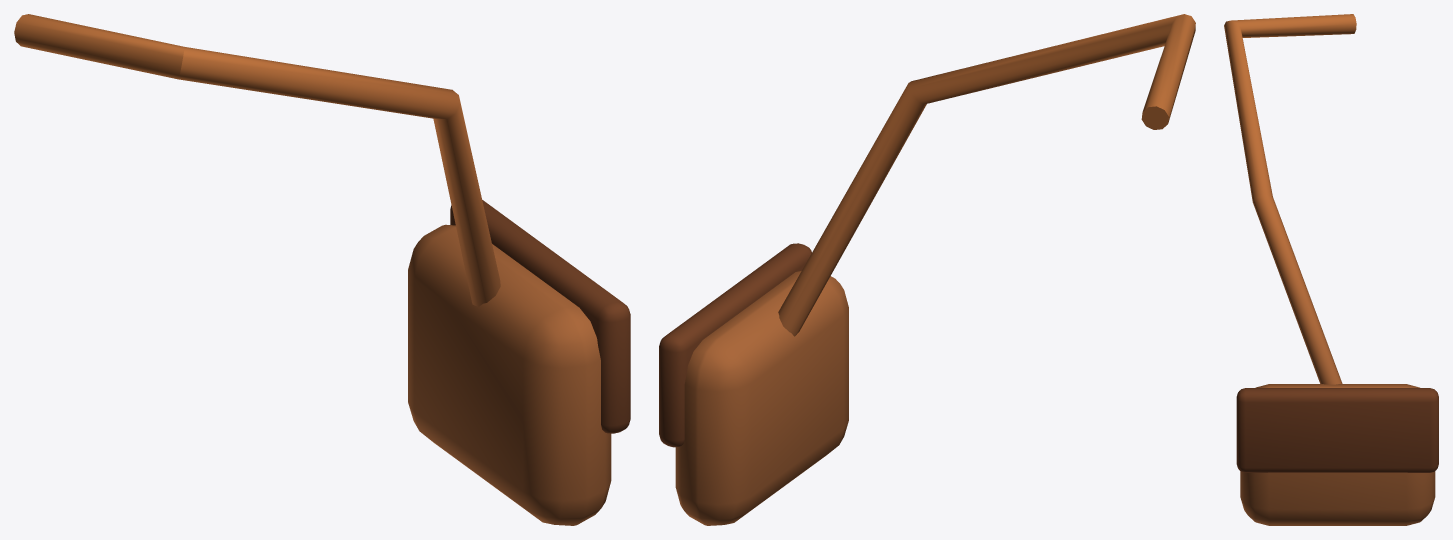
File: acc_satchel.glb
3 views of the same model, side by side, from view 1: azimuth 30°, elevation 25°; view 2: azimuth 150°, elevation 25°; view 3: azimuth 270°, elevation 25° (orthographic). The views are drawn at different scales.
Parts seen in each view (by area): view 1: Accessory; view 2: Accessory; view 3: Accessory.
Part boxes in pixels (x1,y1,x2,y2): Accessory: (14, 14, 630, 525); Accessory: (659, 14, 1195, 525); Accessory: (1224, 14, 1438, 525).
Size of the model in its own units: 0.518 by 0.5536 by 0.2869.
